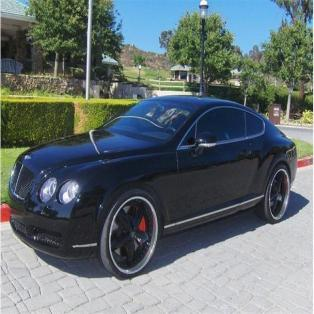Auto: (4, 94, 298, 282)
